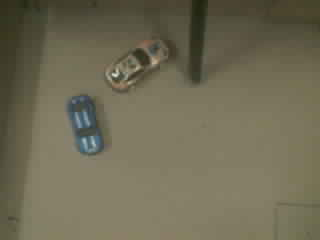Car: (106, 39, 168, 89), (67, 95, 103, 154)
